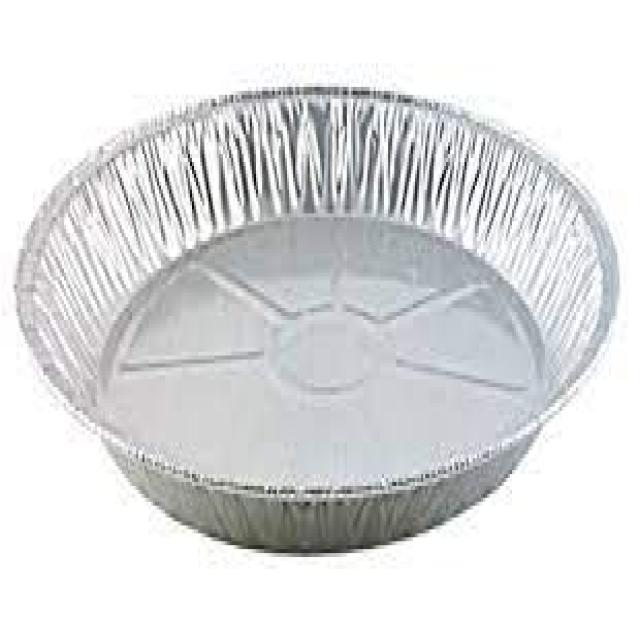metal: (17, 87, 617, 553)
